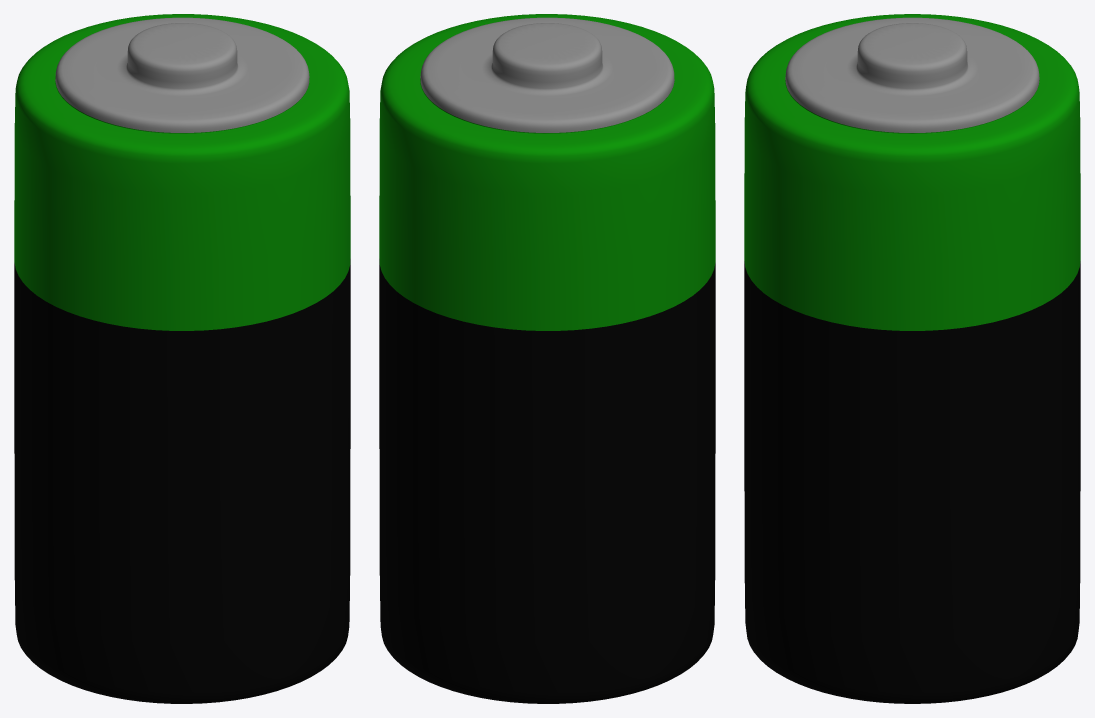
File: BatteryGeneric.fbx
3 views of the same model, side by side, from view 1: azimuth 30°, elevation 25°; view 2: azimuth 150°, elevation 25°; view 3: azimuth 270°, elevation 25° (orthographic).
Parts seen in each view (by area): view 1: battery 2; view 2: battery 2; view 3: battery 2.
Part boxes in pixels (x1,y1,x2,y2): battery 2: (14,14,350,703); battery 2: (379,14,715,703); battery 2: (744,14,1080,703).
Size of the model in its own units: 60.4 by 118 by 60.4.
